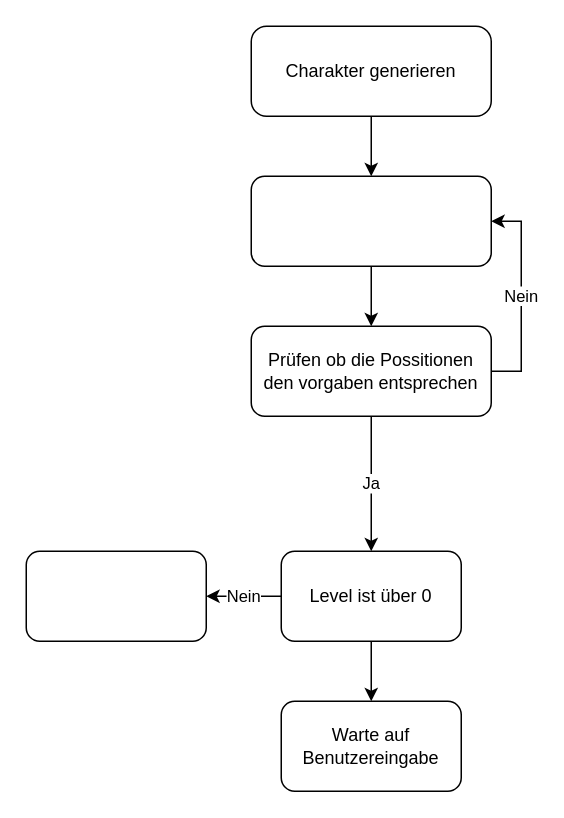
Image size: 564x818. Some labels were removed from this diagram. Each missing label, with the centre of its shape:
"Game Over!" goes at point (115, 595).
"Positionen zufällig setzen" goes at point (370, 220).
